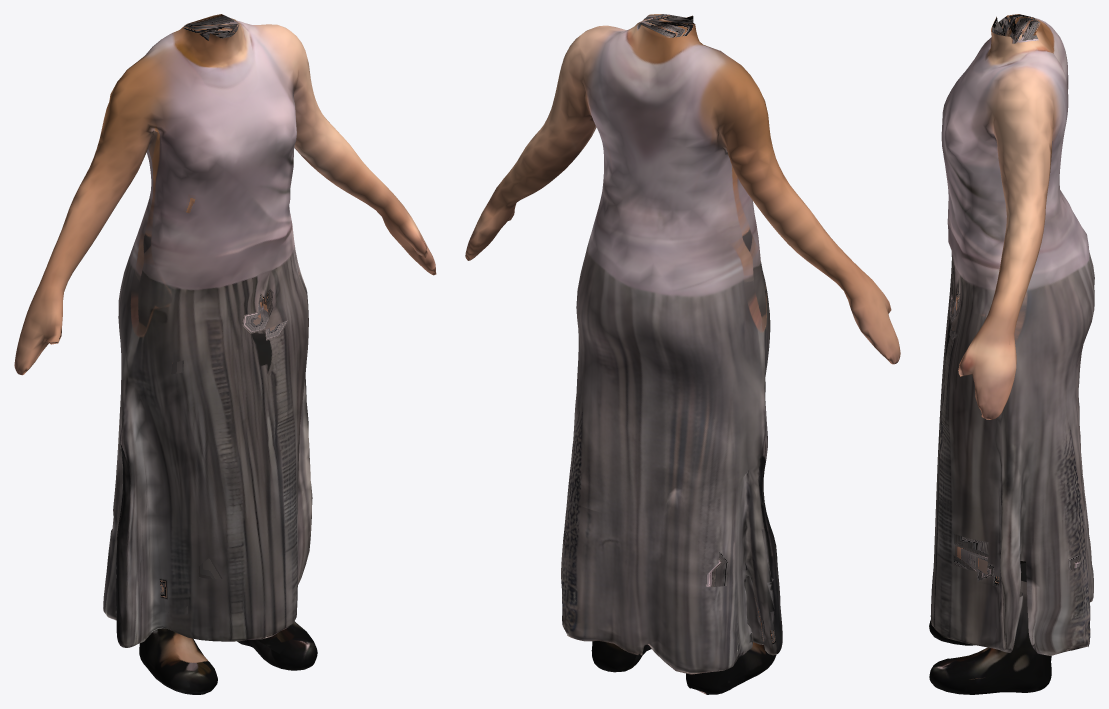
The picture shows the model from 3 angles, left to right: view 1: azimuth 30°, elevation 25°; view 2: azimuth 150°, elevation 25°; view 3: azimuth 270°, elevation 25°; orthographic projection. The views are drawn at different scales.
Parts seen in each view (by area): view 1: base; view 2: base; view 3: base.
Part boxes in pixels (x1,y1,x2,y2): base: (14,14,436,694); base: (465,14,900,694); base: (929,14,1094,694).
Bounding box in the file's own units: 1.14 × 1.65 × 0.3872.
1 material, 1 textured.
